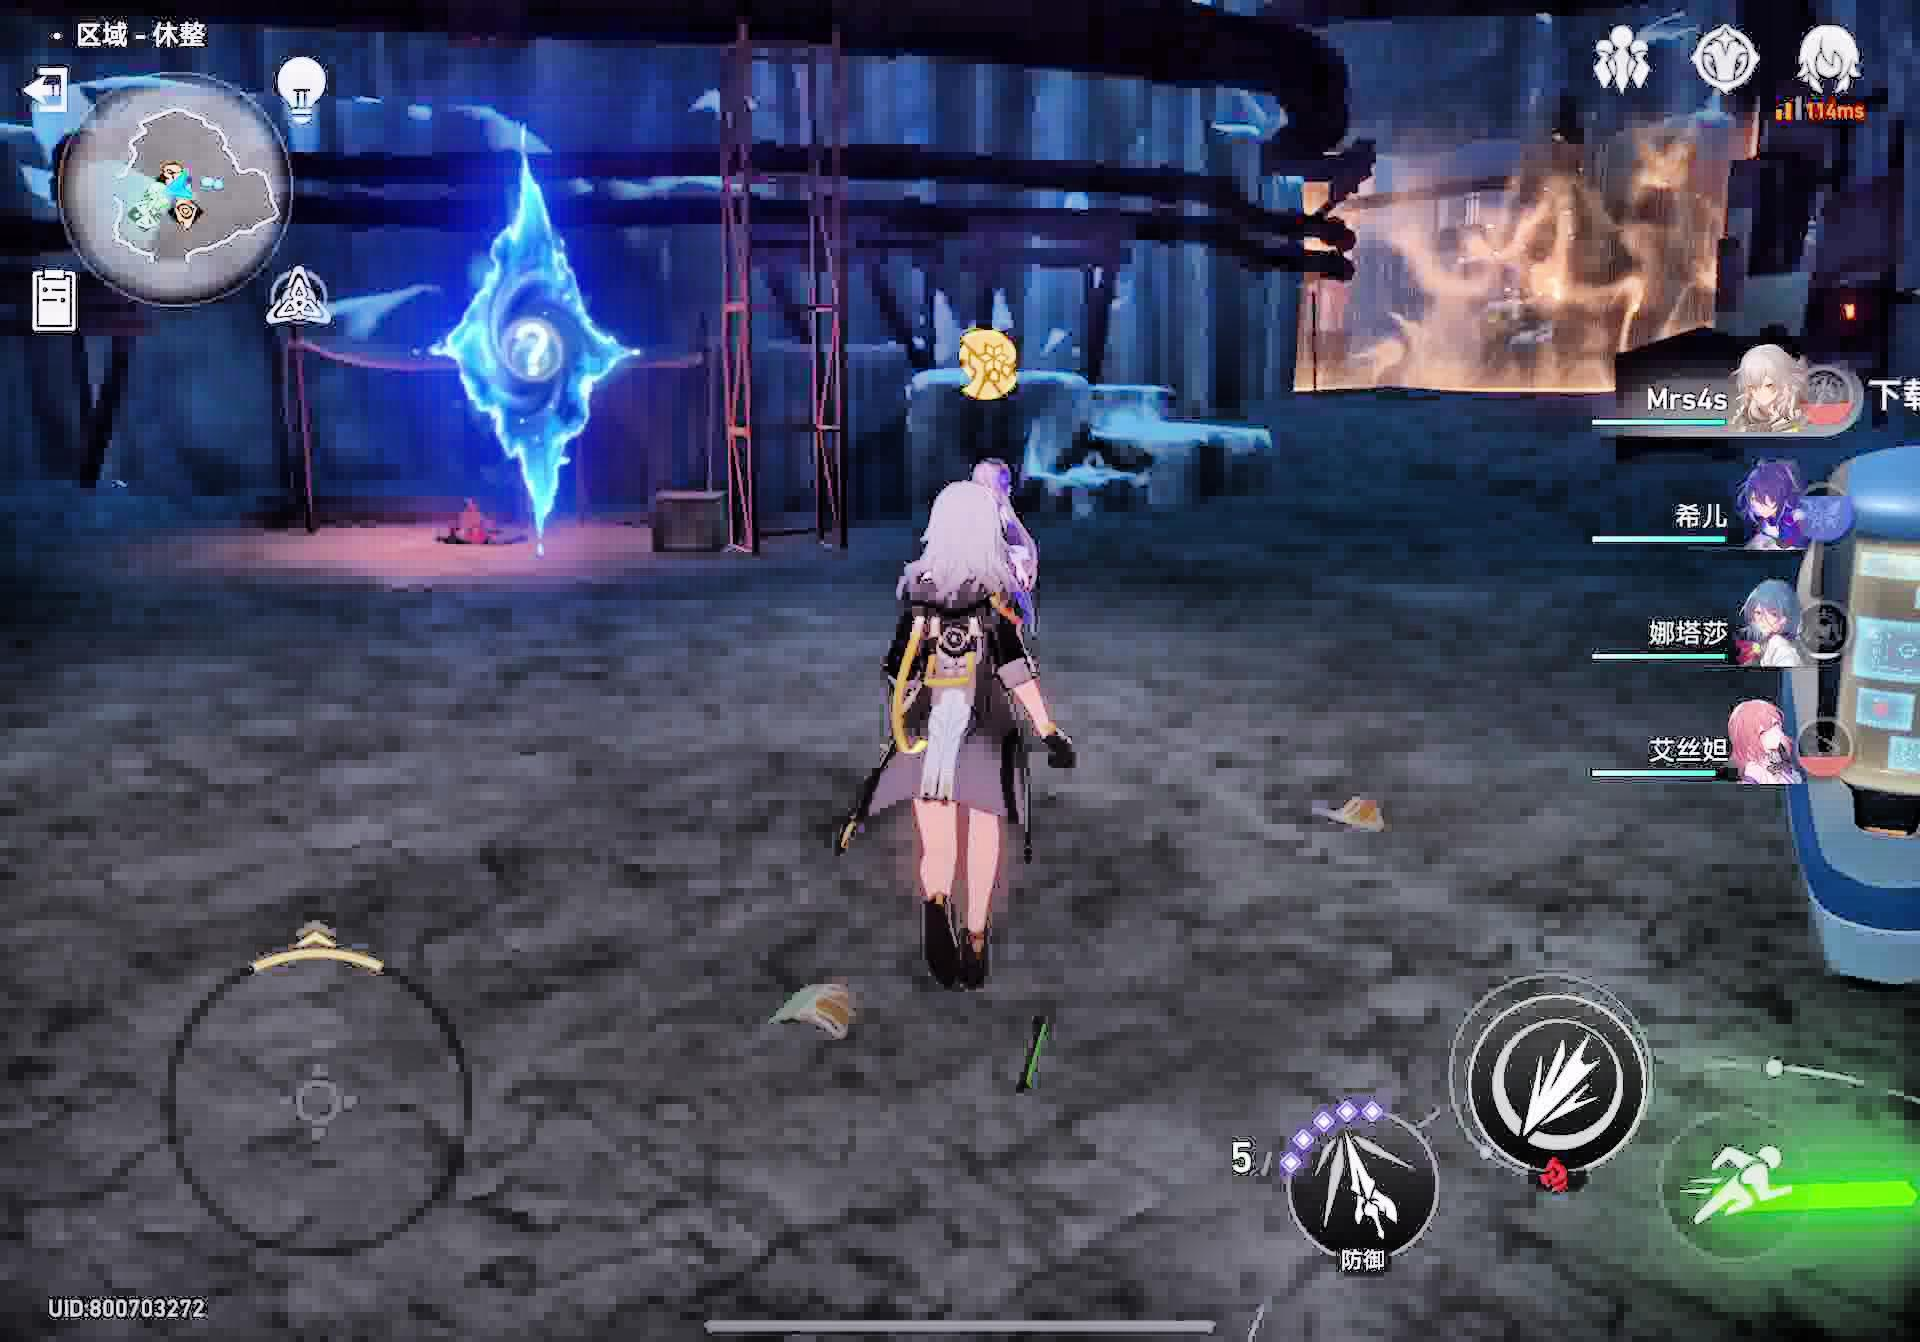EventDoor: (420, 160, 654, 583)
Self: (870, 478, 1078, 1018)
